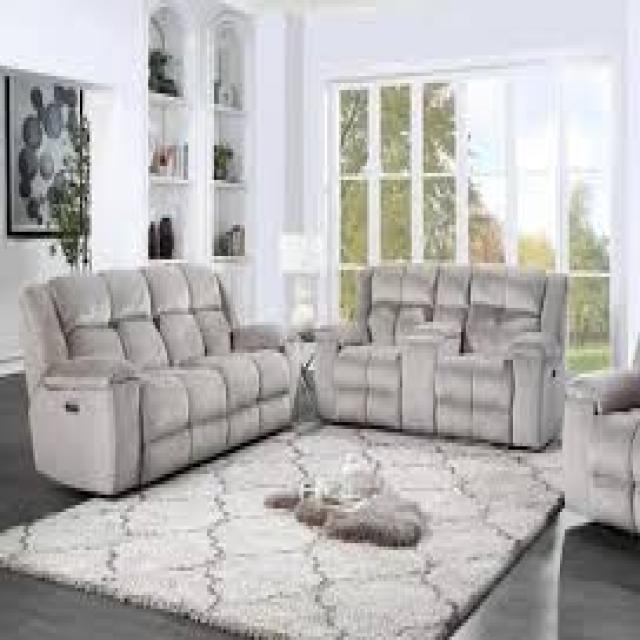Chair: (562, 342, 640, 554)
Sofa: (19, 242, 289, 480), (313, 243, 565, 457)
